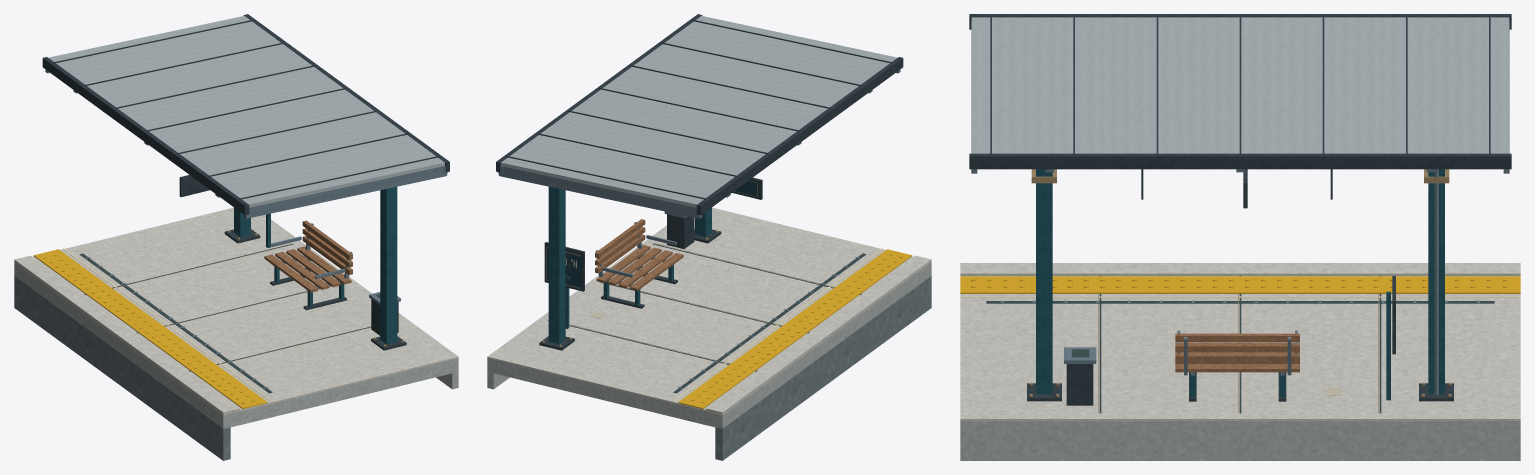
3 renders of one model, left to right at view 1: azimuth 30°, elevation 25°; view 2: azimuth 150°, elevation 25°; view 3: azimuth 270°, elevation 25°, orthographic. The views are drawn at different scales.
Parts seen in each view (by area): view 1: VIS_CANOPY_ROOF_WATERPROOF_PANEL, VIS_DECK_WEAR_TOP, VIS_FASCIA_TRACK_SIDE, VIS_STRUCT_DECK_CAST_CONCRETE, VIS_TACTILE_YELLOW_TILE, VIS_TRACK_EDGE_COPING, VIS_CANOPY_EDGE_FASCIA, VIS_CANOPY_COLUMN_SQUARE_HOLLOW, VIS_ROOF_SEAM_METAL, VIS_END_CROSS_BEAM, VIS_BENCH_WOOD_SEAT_SLAT, VIS_BENCH_WOOD_BACKSLAT (+6 smaller); view 2: VIS_CANOPY_ROOF_WATERPROOF_PANEL, VIS_DECK_WEAR_TOP, VIS_FASCIA_TRACK_SIDE, VIS_STRUCT_DECK_CAST_CONCRETE, VIS_TACTILE_YELLOW_TILE, VIS_TRACK_EDGE_COPING, VIS_CANOPY_EDGE_FASCIA, VIS_CANOPY_COLUMN_SQUARE_HOLLOW, VIS_ROOF_SEAM_METAL, VIS_END_CROSS_BEAM, VIS_BENCH_WOOD_SEAT_SLAT, VIS_BENCH_WOOD_BACKSLAT (+8 smaller); view 3: VIS_CANOPY_ROOF_WATERPROOF_PANEL, VIS_DECK_WEAR_TOP, VIS_LANDWARD_FASCIA, VIS_CANOPY_EDGE_FASCIA, VIS_STRUCT_DECK_CAST_CONCRETE, VIS_TACTILE_YELLOW_TILE, VIS_TRACK_EDGE_COPING, VIS_CANOPY_COLUMN_SQUARE_HOLLOW, VIS_BENCH_WOOD_BACKSLAT, VIS_ROOF_SEAM_METAL, VIS_BENCH_WOOD_SEAT_SLAT, VIS_PLATFORM_SLOT_DRAIN (+6 smaller).
Part boxes in pixels (box(x1,y1,x2,y2)): VIS_CANOPY_ROOF_WATERPROOF_PANEL: box(48, 16, 444, 207); VIS_DECK_WEAR_TOP: box(14, 207, 458, 415); VIS_FASCIA_TRACK_SIDE: box(14, 276, 230, 460); VIS_STRUCT_DECK_CAST_CONCRETE: box(14, 263, 458, 428); VIS_TACTILE_YELLOW_TILE: box(33, 249, 267, 408); VIS_TRACK_EDGE_COPING: box(14, 255, 239, 414); VIS_CANOPY_EDGE_FASCIA: box(42, 14, 449, 215); VIS_CANOPY_COLUMN_SQUARE_HOLLOW: box(234, 186, 397, 344); VIS_ROOF_SEAM_METAL: box(52, 19, 440, 199); VIS_END_CROSS_BEAM: box(45, 70, 447, 218); VIS_BENCH_WOOD_SEAT_SLAT: box(264, 246, 351, 292); VIS_BENCH_WOOD_BACKSLAT: box(302, 220, 352, 274); VIS_CANOPY_ROOF_WATERPROOF_PANEL: box(501, 16, 897, 207); VIS_DECK_WEAR_TOP: box(487, 207, 931, 415); VIS_FASCIA_TRACK_SIDE: box(715, 276, 931, 460); VIS_STRUCT_DECK_CAST_CONCRETE: box(487, 263, 931, 428); VIS_TACTILE_YELLOW_TILE: box(678, 249, 912, 408); VIS_TRACK_EDGE_COPING: box(706, 255, 931, 414); VIS_CANOPY_EDGE_FASCIA: box(496, 14, 903, 215); VIS_CANOPY_COLUMN_SQUARE_HOLLOW: box(548, 186, 711, 344); VIS_ROOF_SEAM_METAL: box(505, 19, 893, 199); VIS_END_CROSS_BEAM: box(498, 70, 900, 218); VIS_BENCH_WOOD_SEAT_SLAT: box(596, 245, 683, 290); VIS_BENCH_WOOD_BACKSLAT: box(595, 219, 645, 273); VIS_CANOPY_ROOF_WATERPROOF_PANEL: box(971, 17, 1509, 153); VIS_DECK_WEAR_TOP: box(960, 276, 1520, 421); VIS_LANDWARD_FASCIA: box(960, 438, 1520, 460); VIS_CANOPY_EDGE_FASCIA: box(969, 14, 1511, 169); VIS_STRUCT_DECK_CAST_CONCRETE: box(960, 421, 1520, 439); VIS_TACTILE_YELLOW_TILE: box(960, 276, 1520, 293); VIS_TRACK_EDGE_COPING: box(960, 263, 1520, 275); VIS_CANOPY_COLUMN_SQUARE_HOLLOW: box(1036, 169, 1444, 394); VIS_BENCH_WOOD_BACKSLAT: box(1175, 333, 1299, 362); VIS_ROOF_SEAM_METAL: box(990, 14, 1490, 154); VIS_BENCH_WOOD_SEAT_SLAT: box(1175, 342, 1299, 372); VIS_PLATFORM_SLOT_DRAIN: box(986, 301, 1494, 303).
Size of the model in its own units: 5.2 by 5.22 by 8.
16 materials, 16 textured.
